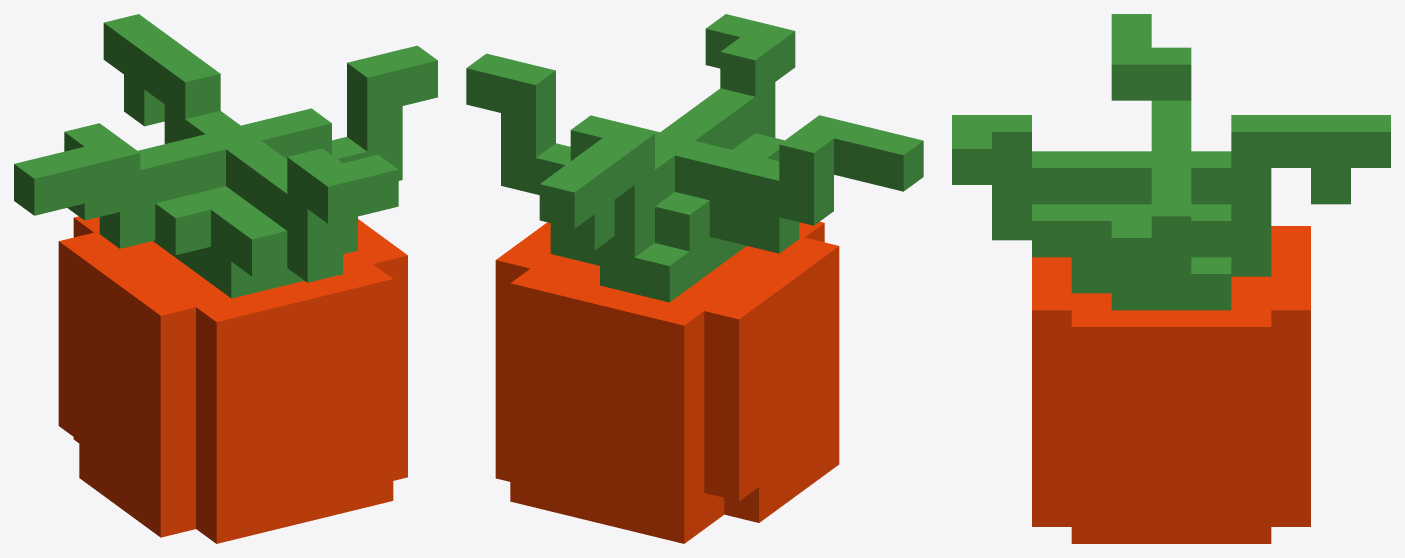
Rendered from carrot_full_grown.obj.
3 views of the same model, side by side, from view 1: azimuth 30°, elevation 25°; view 2: azimuth 150°, elevation 25°; view 3: azimuth 270°, elevation 25° (orthographic). The views are drawn at different scales.
Parts seen in each view (by area): view 1: carrot-0-carrot; view 2: carrot-0-carrot; view 3: carrot-0-carrot.
Part boxes in pixels (bbox=[...]): carrot-0-carrot: bbox=[14, 14, 437, 543]; carrot-0-carrot: bbox=[466, 14, 923, 543]; carrot-0-carrot: bbox=[952, 14, 1390, 543].
Size of the model in its own units: 1.2 by 1 by 1.1.
1 material, 1 textured.
